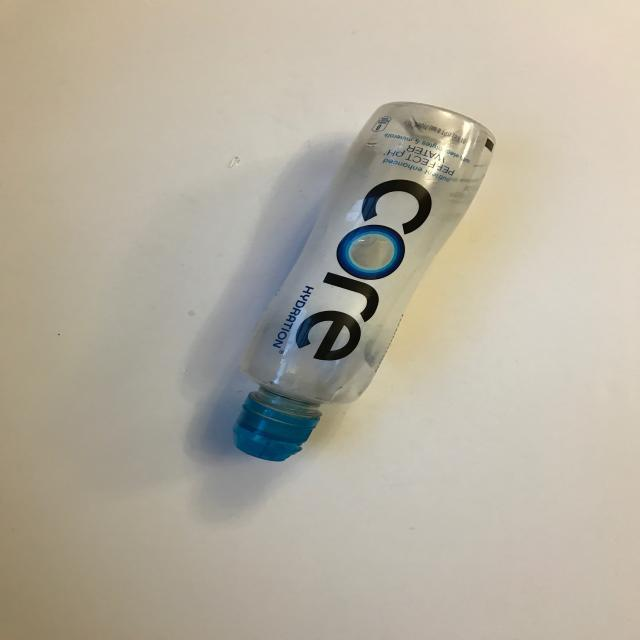plastic: (220, 100, 495, 468)
